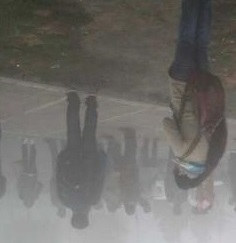person: (163, 2, 226, 191), (55, 93, 107, 230), (114, 124, 143, 216), (16, 135, 45, 209), (46, 135, 71, 219), (138, 135, 162, 213), (101, 134, 124, 214), (163, 148, 190, 216), (197, 178, 214, 212), (188, 186, 204, 214)
